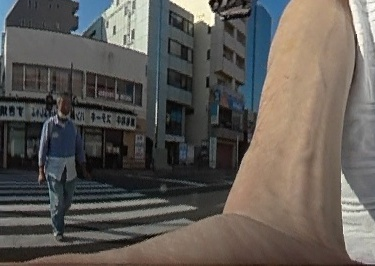person: (42, 88, 79, 237)
